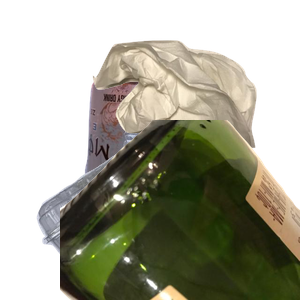glass: (60, 120, 300, 300)
metal: (82, 66, 270, 246)
plastic: (34, 130, 246, 300)
trash: (90, 38, 300, 183)
